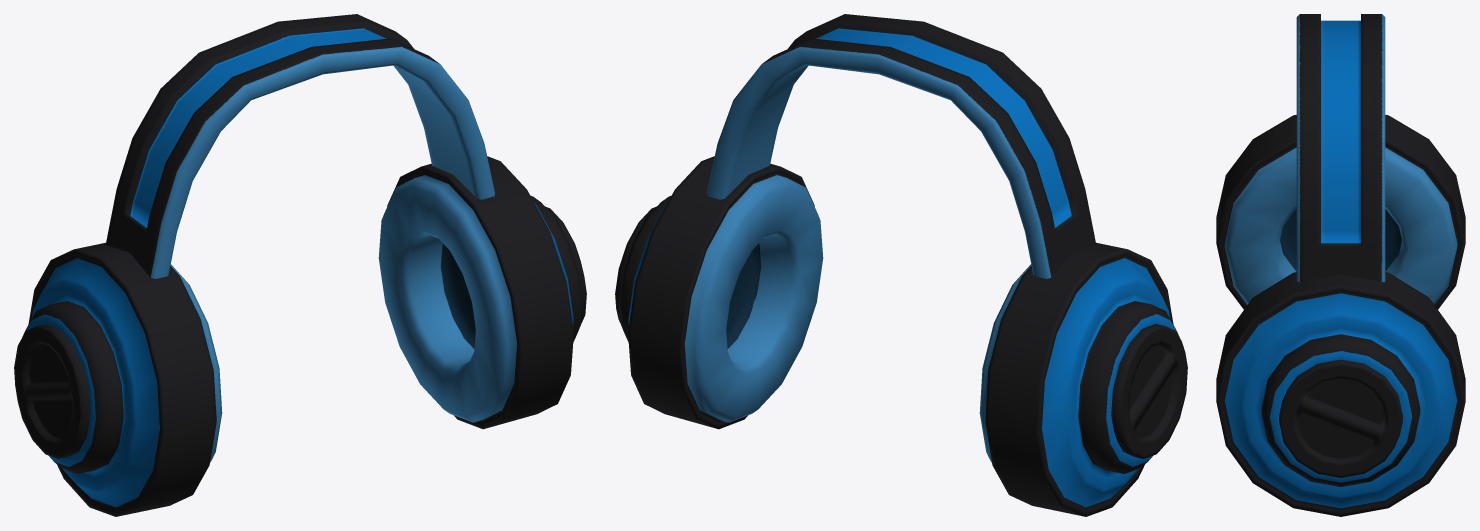
The model's file is earphone_-_3d_model.glb.
The picture shows the model from 3 angles, left to right: view 1: azimuth 30°, elevation 25°; view 2: azimuth 150°, elevation 25°; view 3: azimuth 270°, elevation 25°; orthographic projection. The views are drawn at different scales.
Parts seen in each view (by area): view 1: Circle, Circle.001, Circle.002; view 2: Circle, Circle.001, Circle.002; view 3: Circle, Circle.001, Circle.002.
Part boxes in pixels (box(x1,y1,x2,y2)): Circle: box(22, 156, 582, 516); Circle.001: box(105, 14, 495, 278); Circle.002: box(14, 206, 586, 458); Circle: box(619, 156, 1179, 516); Circle.001: box(706, 14, 1096, 278); Circle.002: box(615, 206, 1187, 458); Circle: box(1216, 115, 1465, 516); Circle.001: box(1296, 14, 1385, 282); Circle.002: box(1279, 359, 1402, 477).
Size of the model in its own units: 4.66 by 3.66 by 2.14.
Materials: 1 (1 with a texture image).
